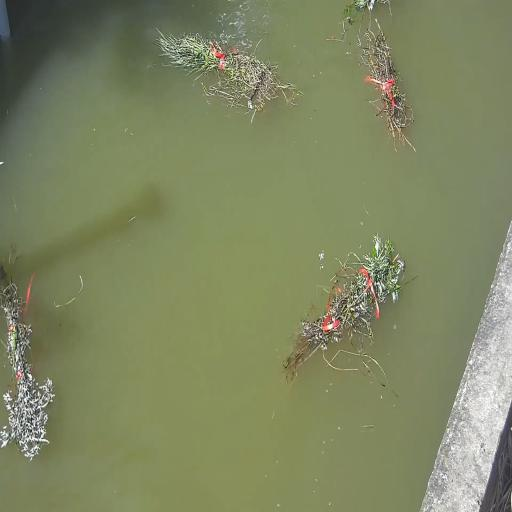twig: (283, 232, 406, 386), (155, 27, 296, 122), (0, 269, 56, 460), (359, 20, 415, 155), (338, 1, 389, 39)
